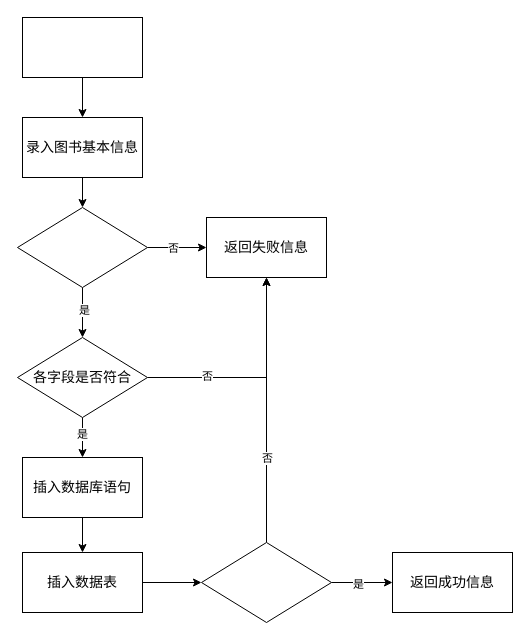
Some shapes in this 530 by 640 pixel diagram are drawn without their labels. Here are the shapes that lost their labels. From the top down, the centre of each, then its label:
point 82,47: 图书录入
point 82,247: 信息是否完整
point 266,582: 返回信息是否符合
